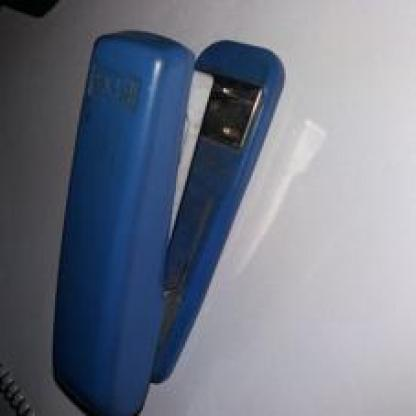stapler: (65, 19, 296, 415)
